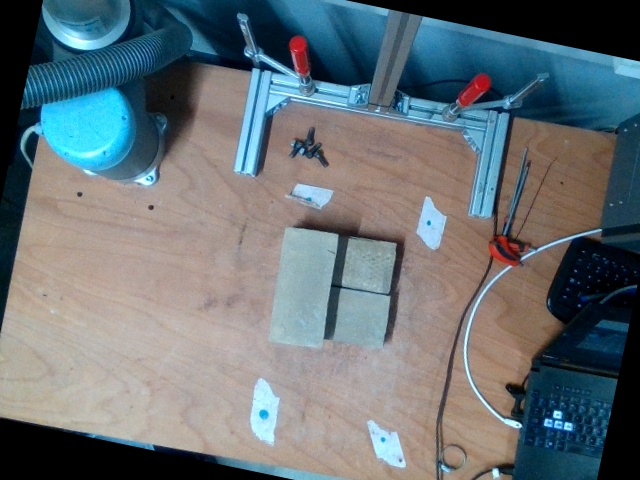brick: (266, 227, 339, 346)
